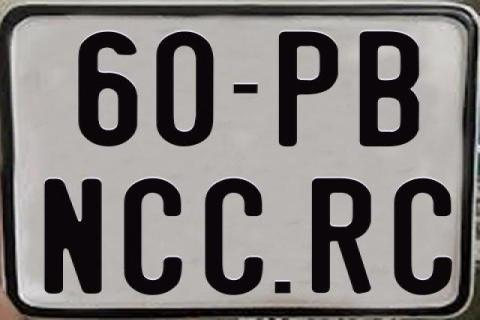0: (156, 29, 218, 147), (75, 30, 138, 146)
B: (358, 31, 422, 148)
C: (123, 176, 186, 295), (392, 177, 450, 297), (205, 176, 263, 294)
N: (44, 179, 106, 297)
P: (278, 29, 342, 149)
R: (309, 177, 370, 295)
